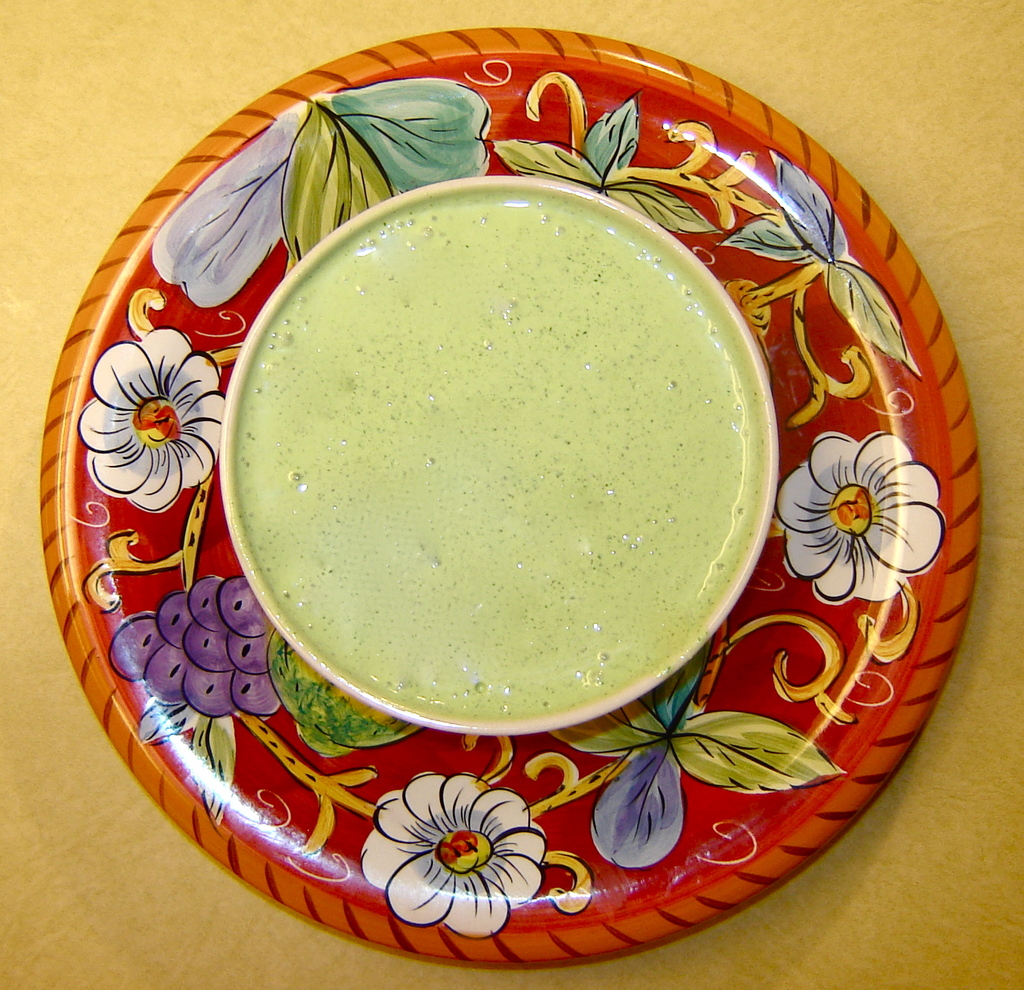plate: (39, 26, 981, 968)
